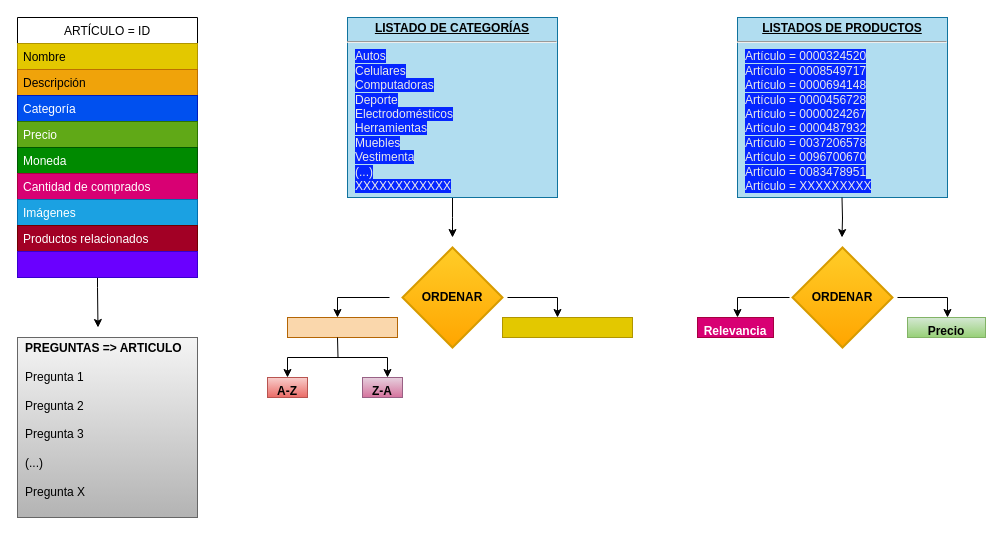
This 1003x535 diagram has some shape labels left out. The shapes that lost their labels are listed below. From the top down, each one's centre as x and y in pixels, then its label:
At point 107,264: "Puntuaciones y comentarios".
At point 342,327: "Alfabéticamente".
At point 567,327: "Cantidad decreciente".
